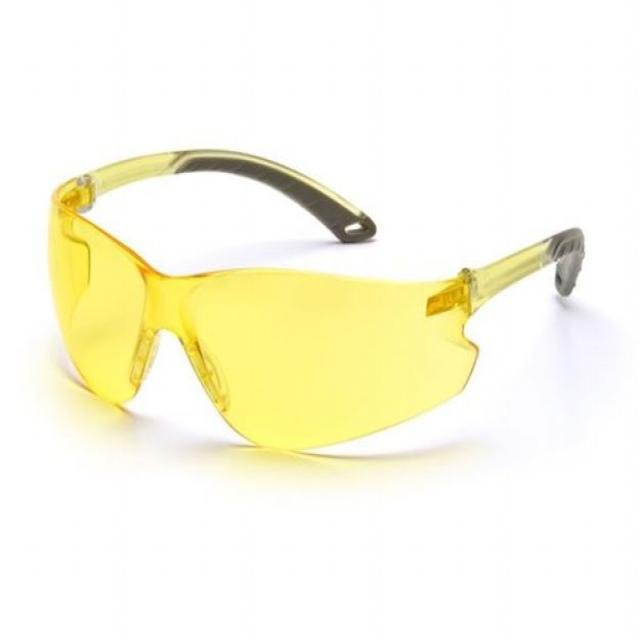Protective Glasses: (30, 96, 610, 491)
